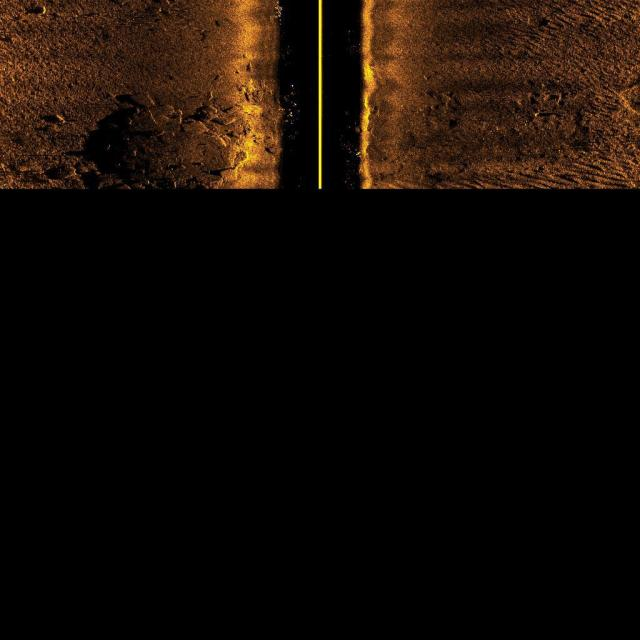mine: (38, 111, 68, 125)
